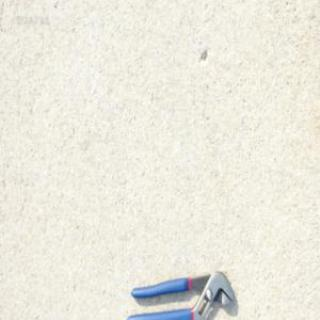Pliertrack_idkeyframe: (126, 269, 234, 317)
